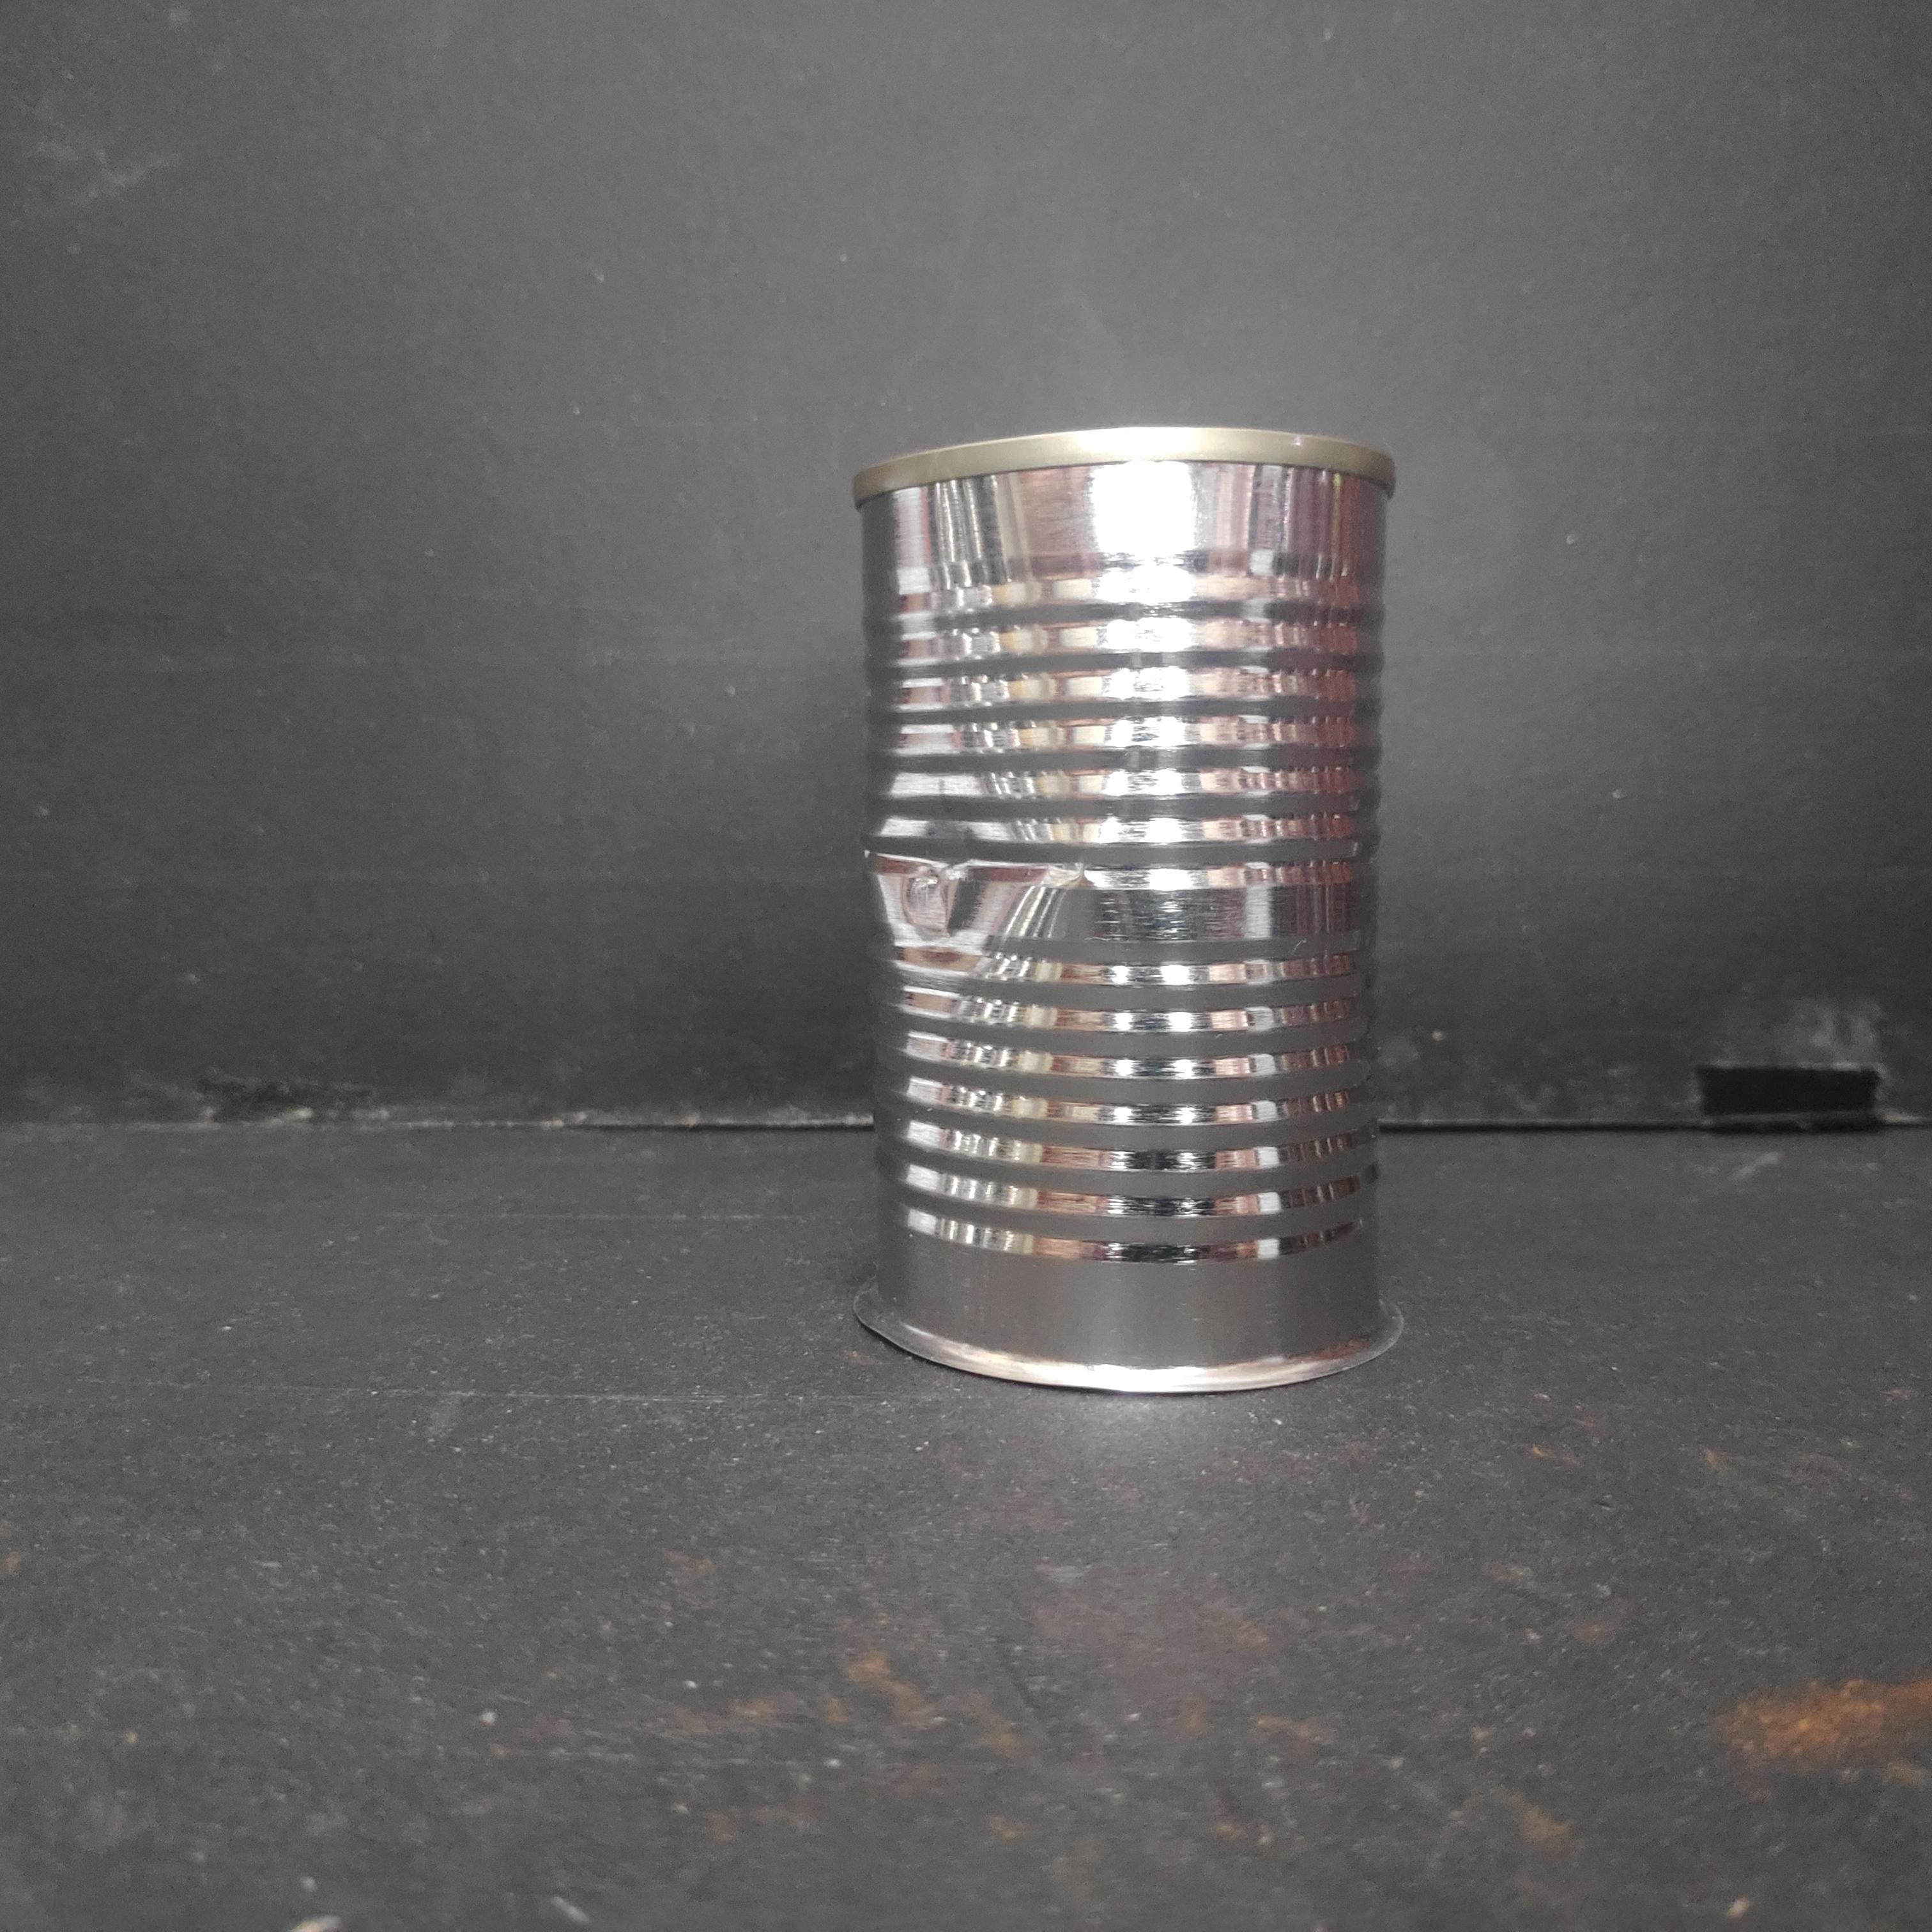Minor Defect: (844, 410, 1410, 1412)
